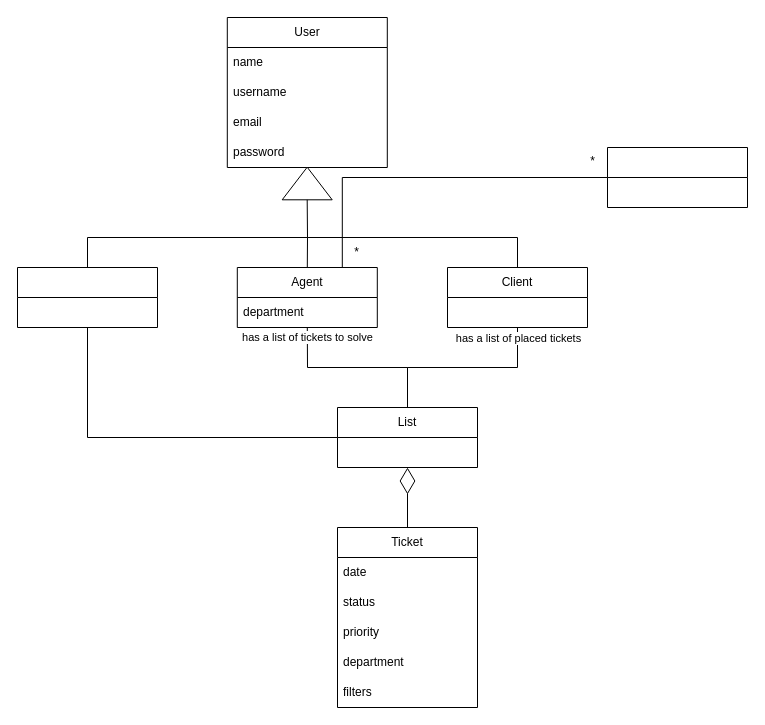
This 765x725 diagram has some shape labels left out. The shapes that lost their labels are listed below. From the top down, each one's centre as x and y in pixels, then its label:
At (677,177): "Departament".
At (87,297): "Admin".
